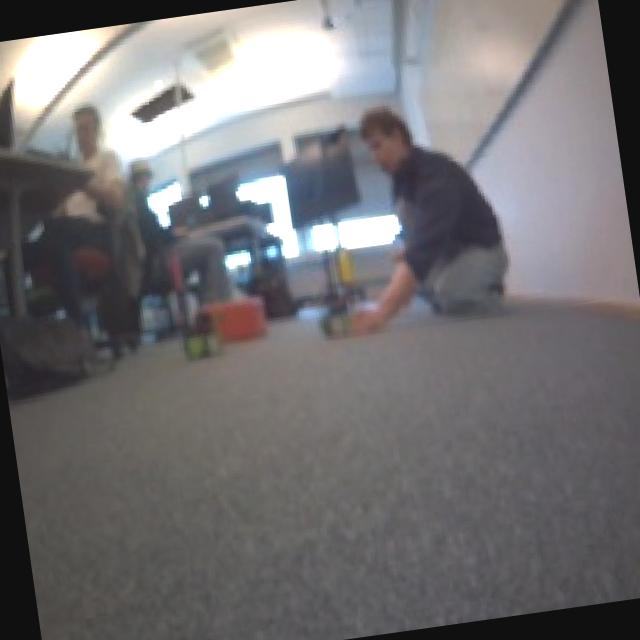robot: (310, 288, 360, 341), (179, 327, 226, 364)
target: (199, 290, 270, 344)
